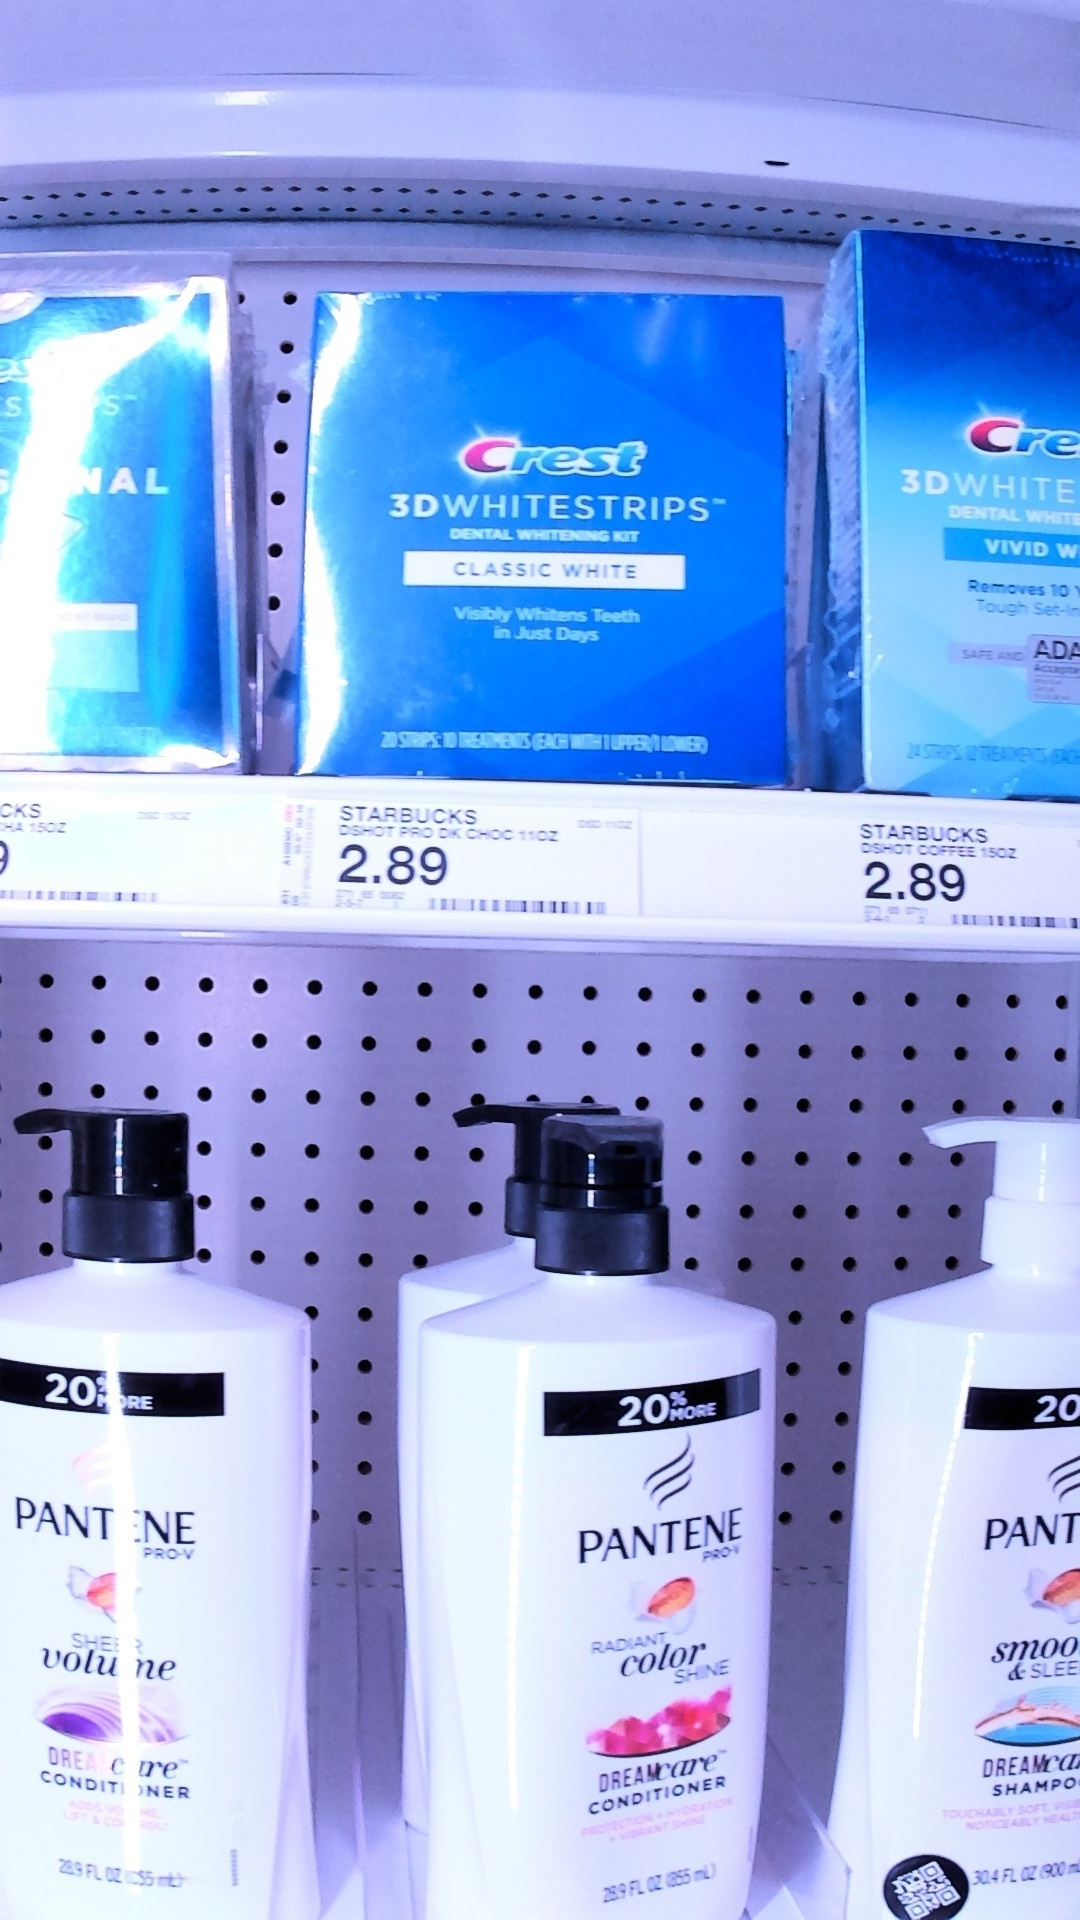ptag: (273, 775, 658, 934), (843, 800, 1080, 963)
